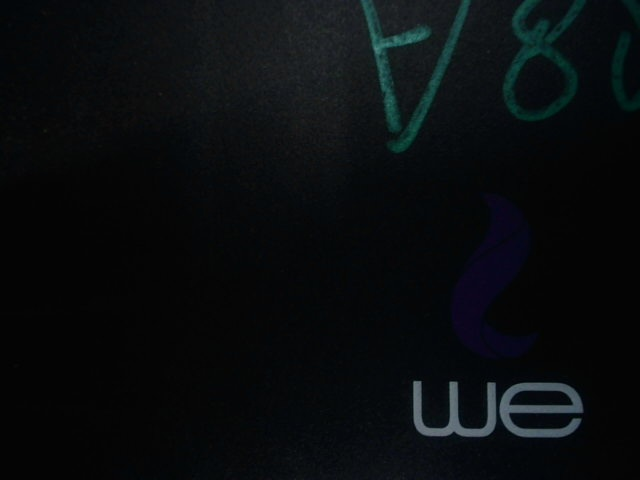AT_We: (396, 187, 602, 437)
